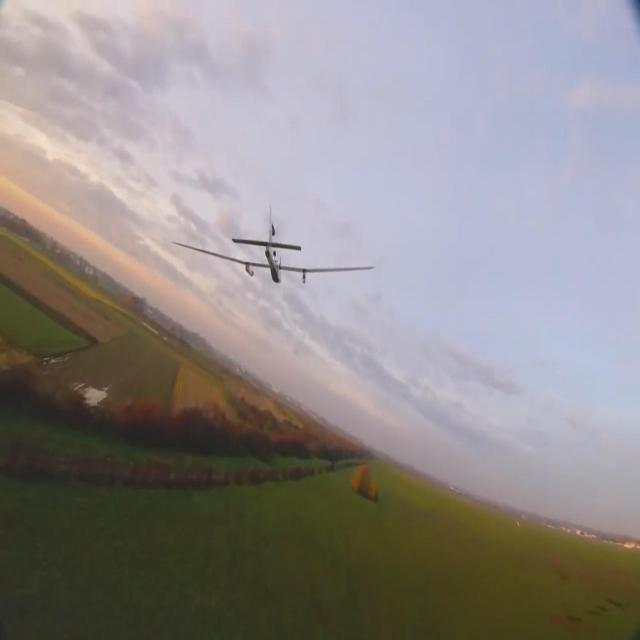iha: (167, 253, 381, 256)
